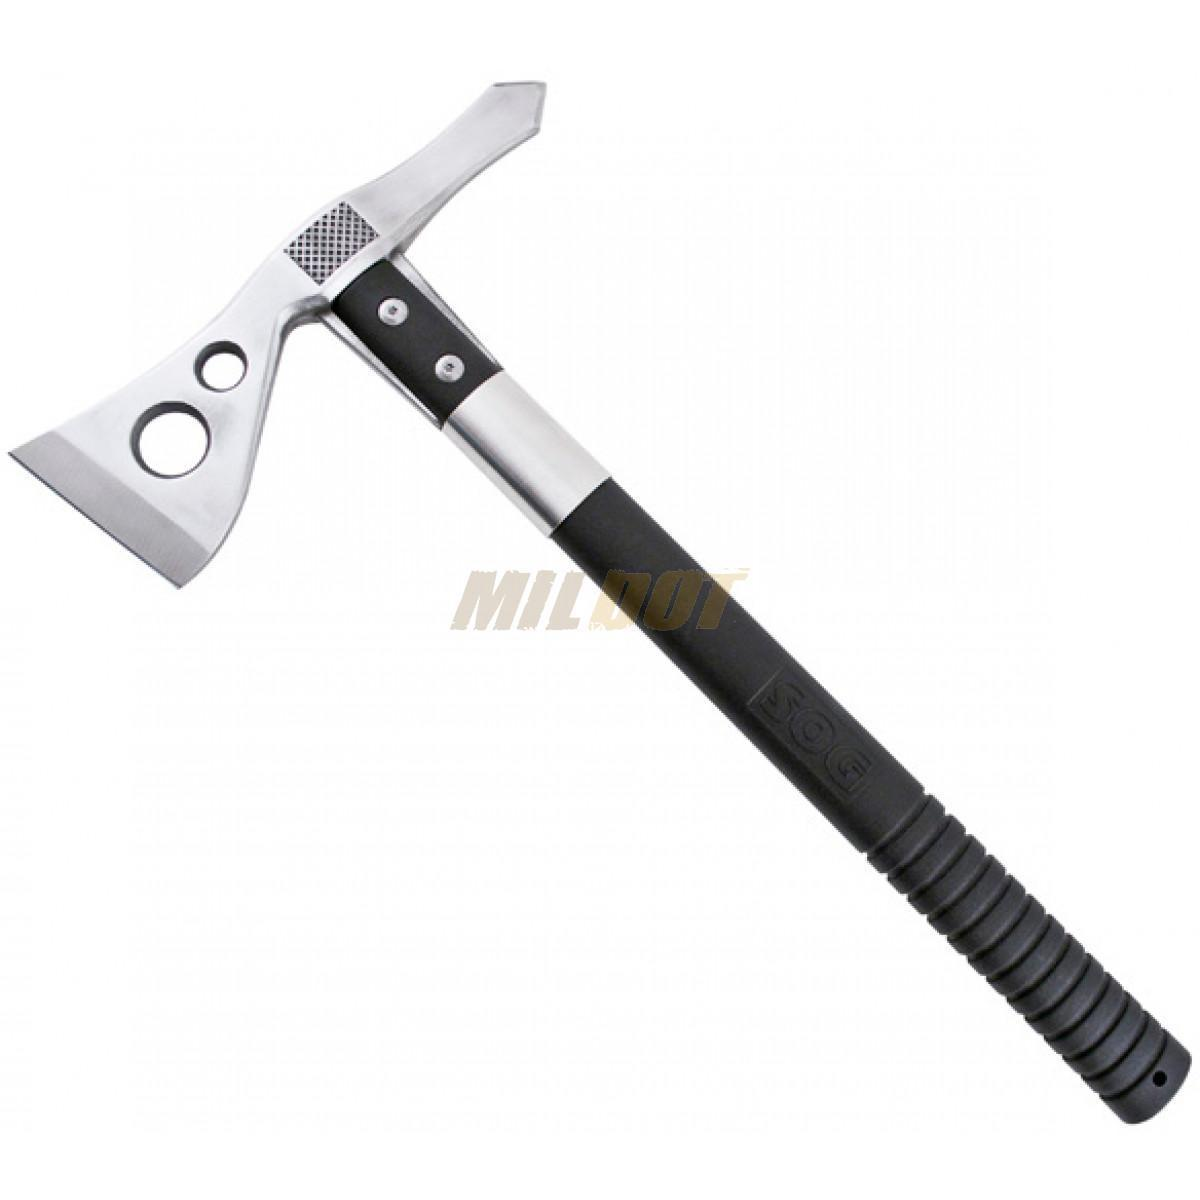machado: (11, 82, 1188, 1122)
